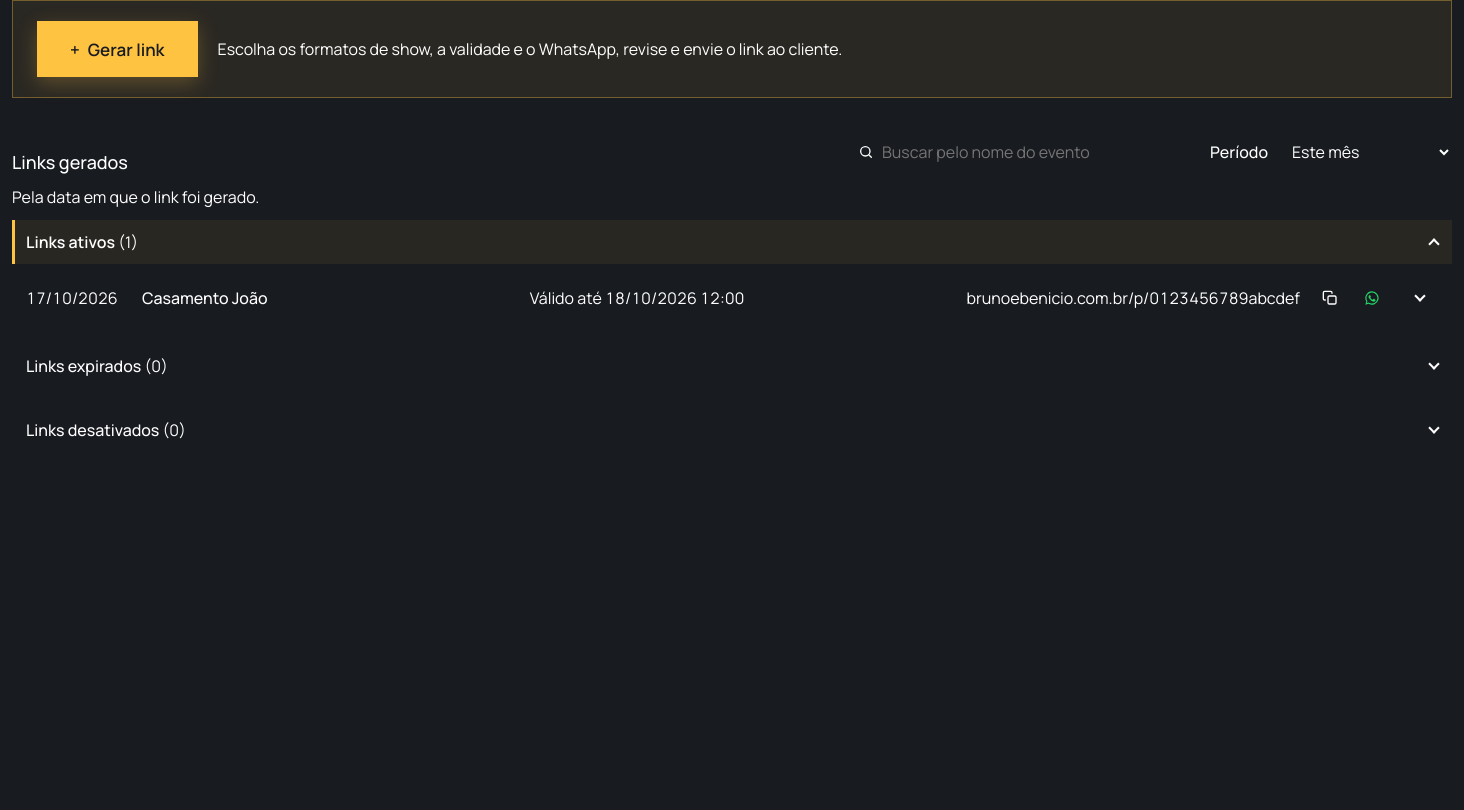
Links comerciais (ADMIN) › vê o autor dos links; os WhatsApp não são administrados aqui (ficam em Configurações)
Check: the heading "Links gerados" is shown, box [12,150,128,174]
Click the button named "Ver detalhes do link Casamento João". click: (1420, 298)
box: [1402,280,1438,316]
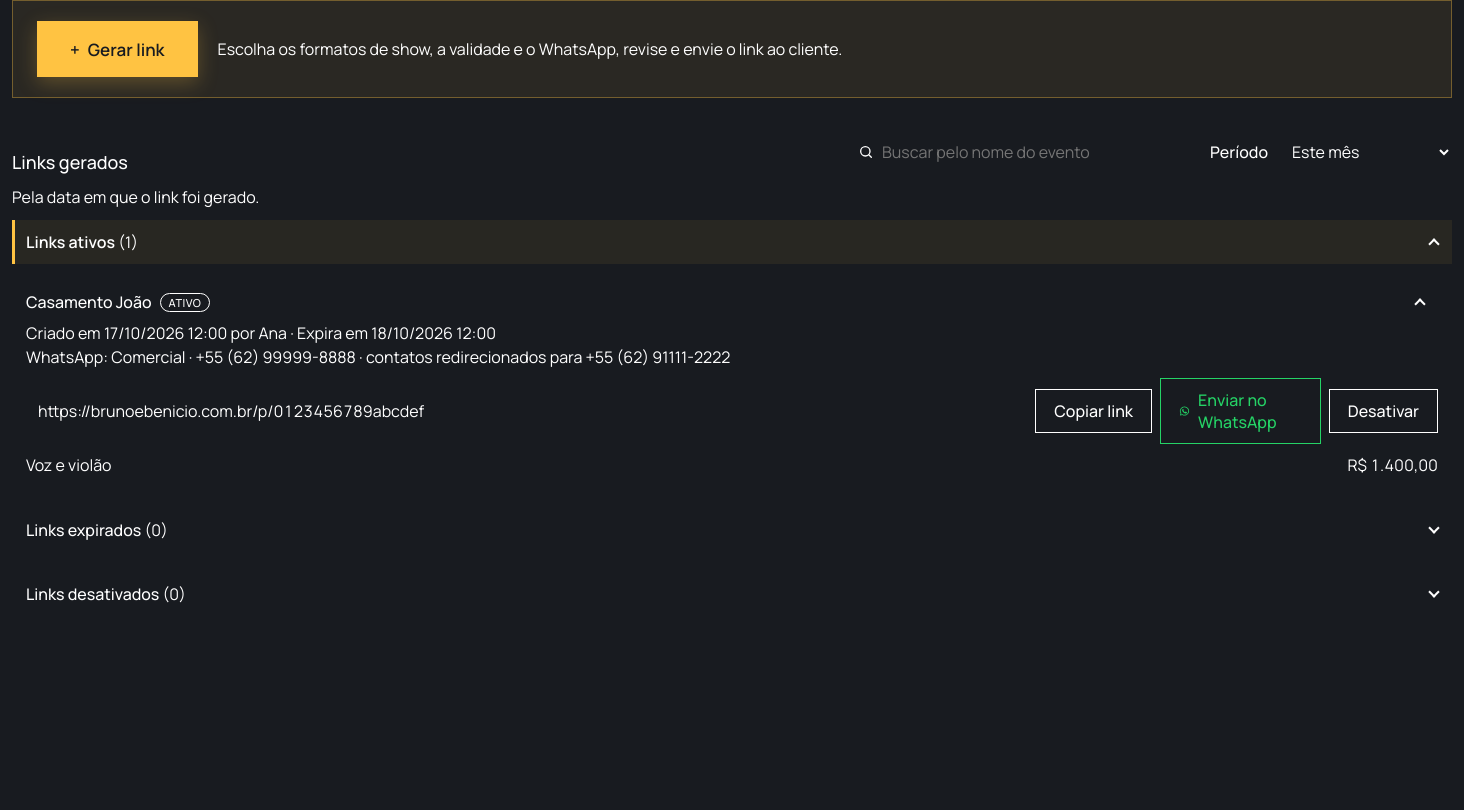
Check: the text "por Ana" is shown, box [227,322,287,344]
